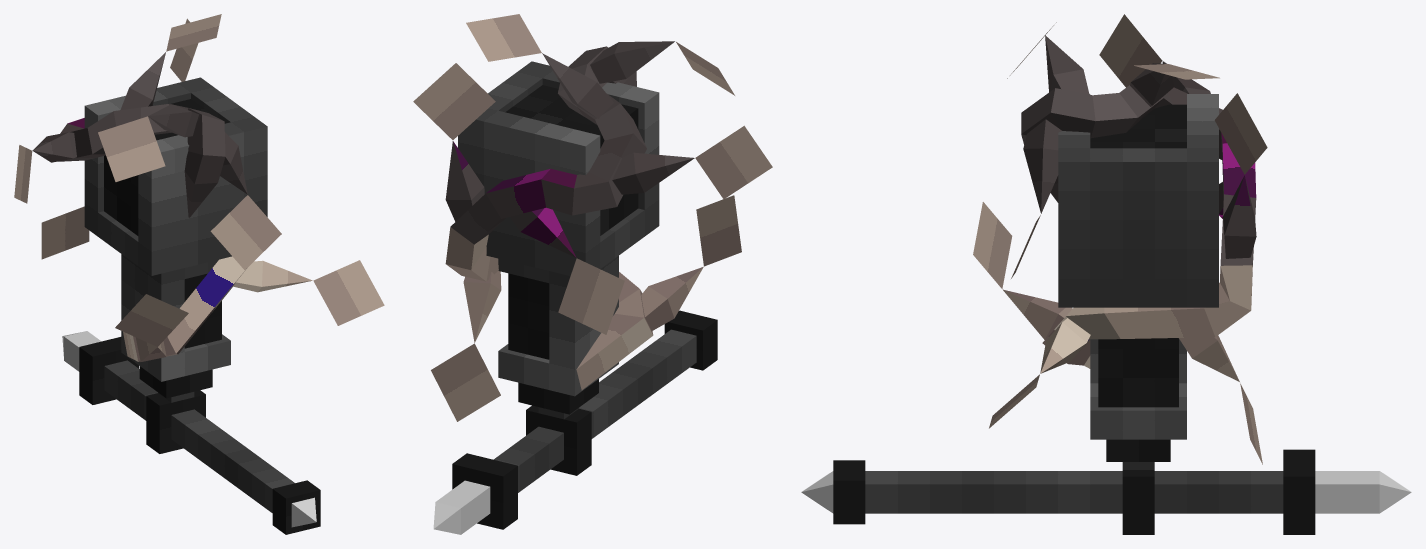
Rendered from arm_caster_l.obj.
3 renders of one model, left to right at view 1: azimuth 30°, elevation 25°; view 2: azimuth 150°, elevation 25°; view 3: azimuth 270°, elevation 25°, orthographic. The views are drawn at different scales.
Visible parts, largest first — view 1: ARM_LEFT_CASTER_Cube.000, ARM_LEFT_DECO_WOOD_Cube.014; view 2: ARM_LEFT_CASTER_Cube.000, ARM_LEFT_DECO_WOOD_Cube.014; view 3: ARM_LEFT_CASTER_Cube.000, ARM_LEFT_DECO_WOOD_Cube.014.
Part boxes in pixels (x1,y1,x2,y2): ARM_LEFT_CASTER_Cube.000: (62,77,320,534); ARM_LEFT_DECO_WOOD_Cube.014: (14,14,384,361); ARM_LEFT_CASTER_Cube.000: (433,61,717,534); ARM_LEFT_DECO_WOOD_Cube.014: (413,14,772,421); ARM_LEFT_CASTER_Cube.000: (801,94,1411,534); ARM_LEFT_DECO_WOOD_Cube.014: (973,14,1267,464).
Bounding box in the file's own units: 0.8743 × 1.03 × 1.19.
